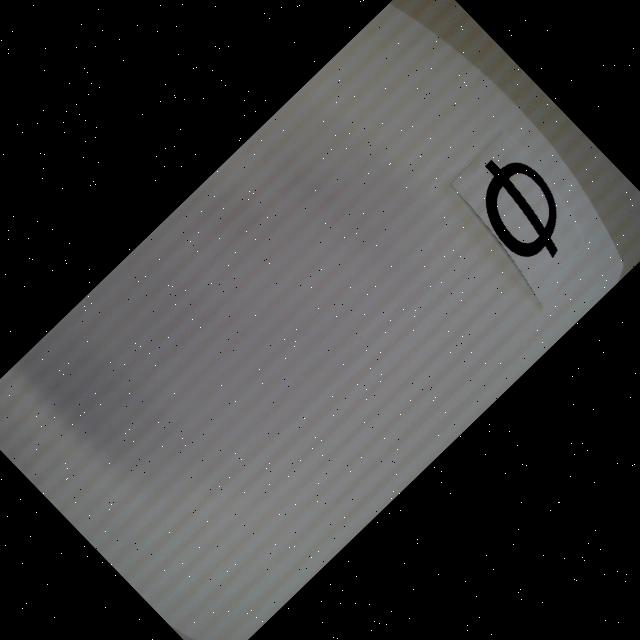PHI: (458, 142, 588, 274)
